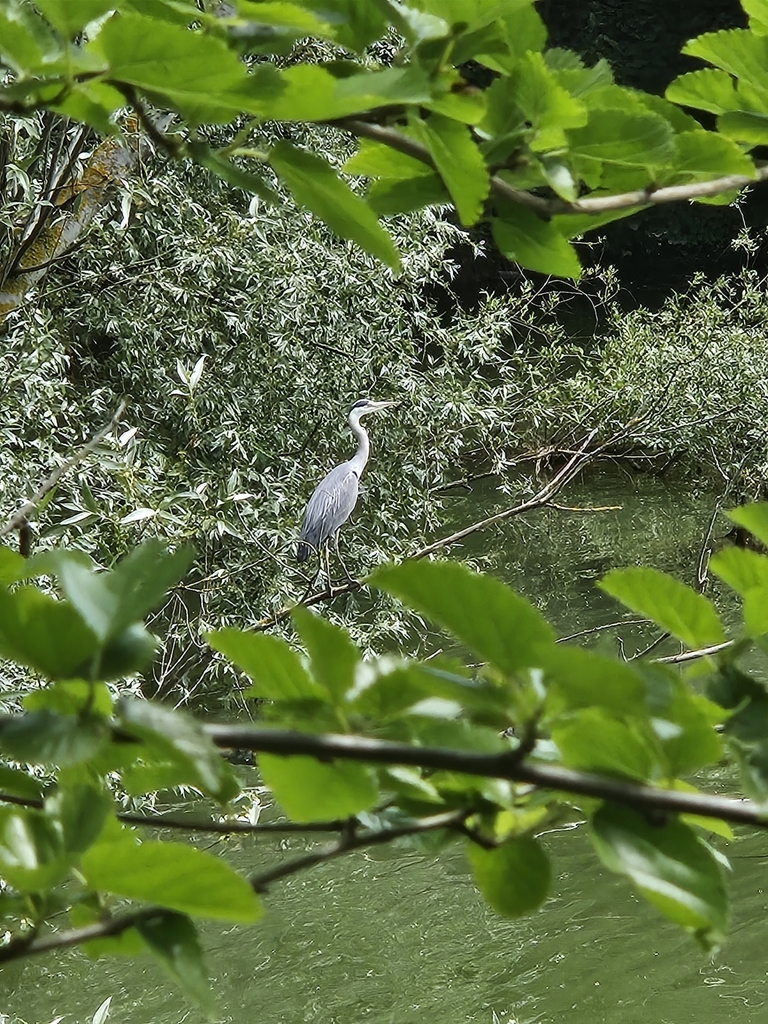heron: (289, 392, 398, 605)
